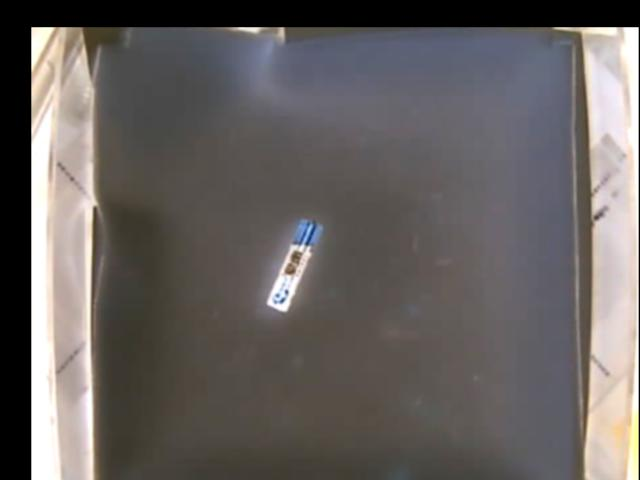Battery: (270, 217, 319, 312)
